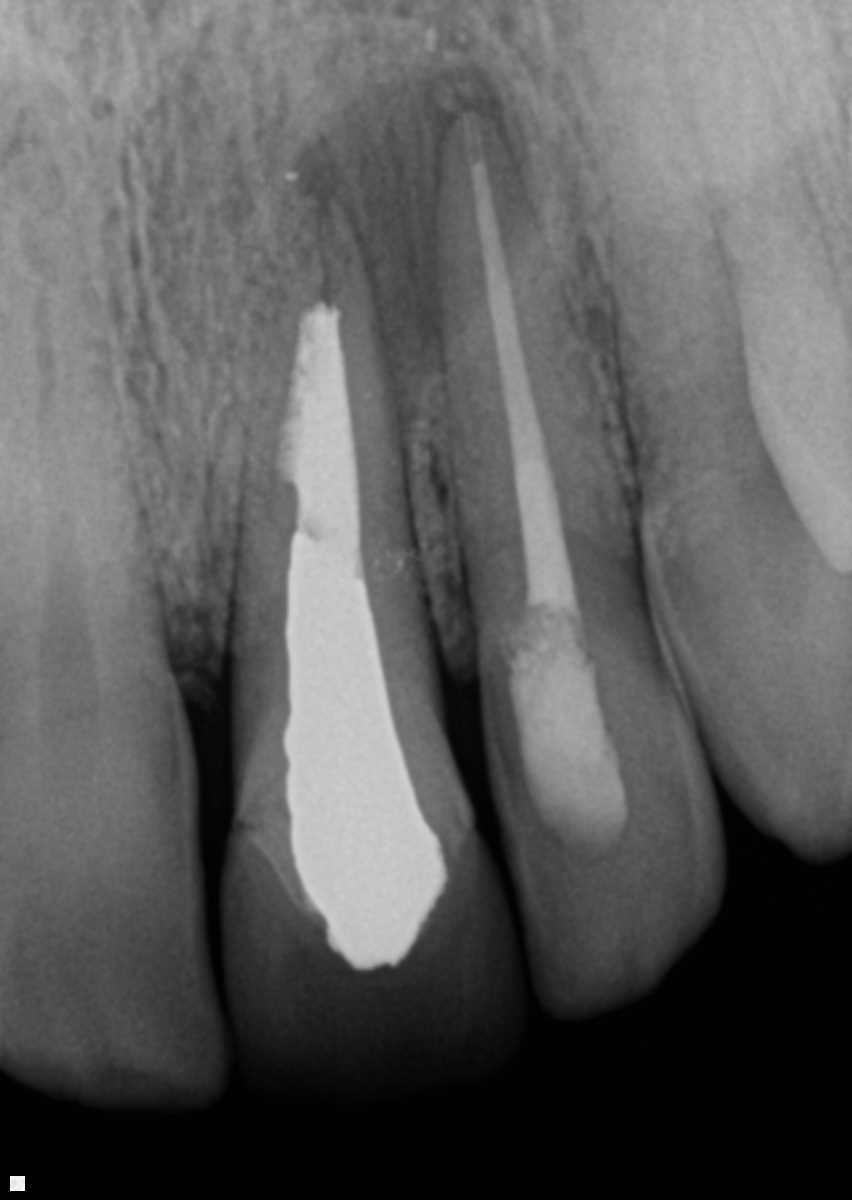Apical Lesion: (278, 69, 549, 397)
Main Canal: (39, 266, 100, 678)
Main Root: (591, 0, 852, 507), (433, 107, 640, 632), (227, 204, 436, 670), (0, 93, 165, 677)
Root Canal Filling: (473, 163, 572, 612)
